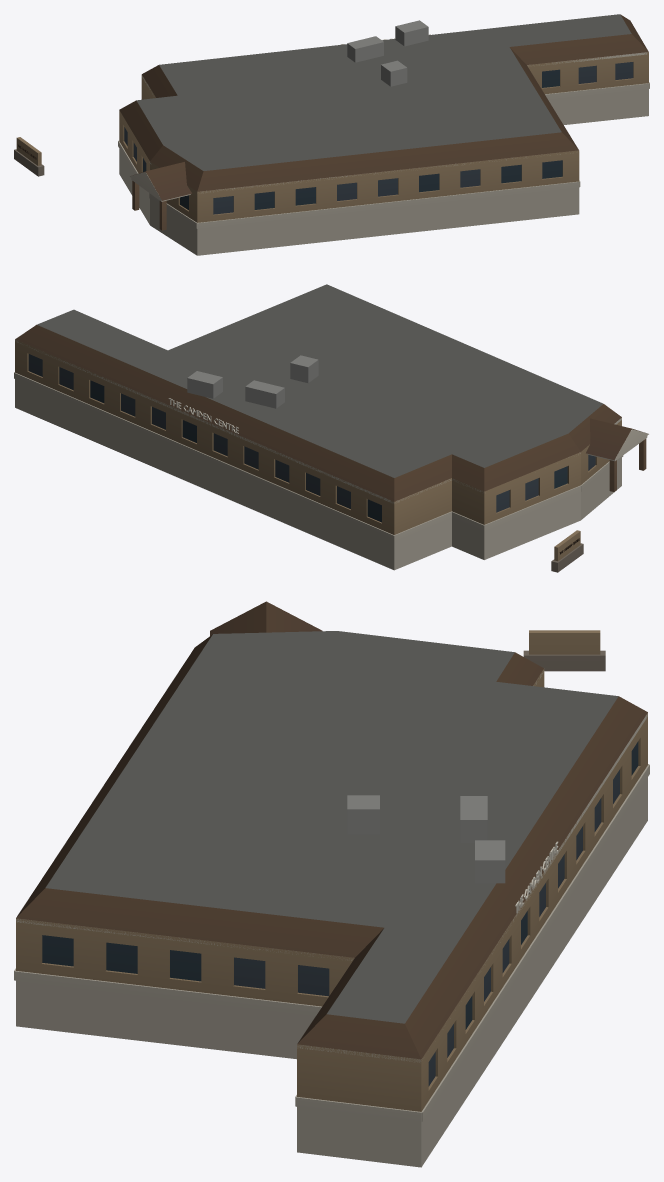
The model's file is camden.glb.
The picture shows the model from 3 angles, top to bottom: view 1: azimuth 30°, elevation 25°; view 2: azimuth 150°, elevation 25°; view 3: azimuth 270°, elevation 25°; orthographic projection. The views are drawn at different scales.
Visible parts, largest first — view 1: camden_lod0; view 2: camden_lod0; view 3: camden_lod0.
Part boxes in pixels (x1,y1,x2,y2): camden_lod0: (14,14,649,255); camden_lod0: (14,284,648,572); camden_lod0: (14,601,649,1167).
Size of what is drawn, in the model's own units: 64.36 by 10.14 by 37.32.
